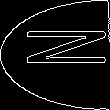N_E: (5, 35, 105, 75)
